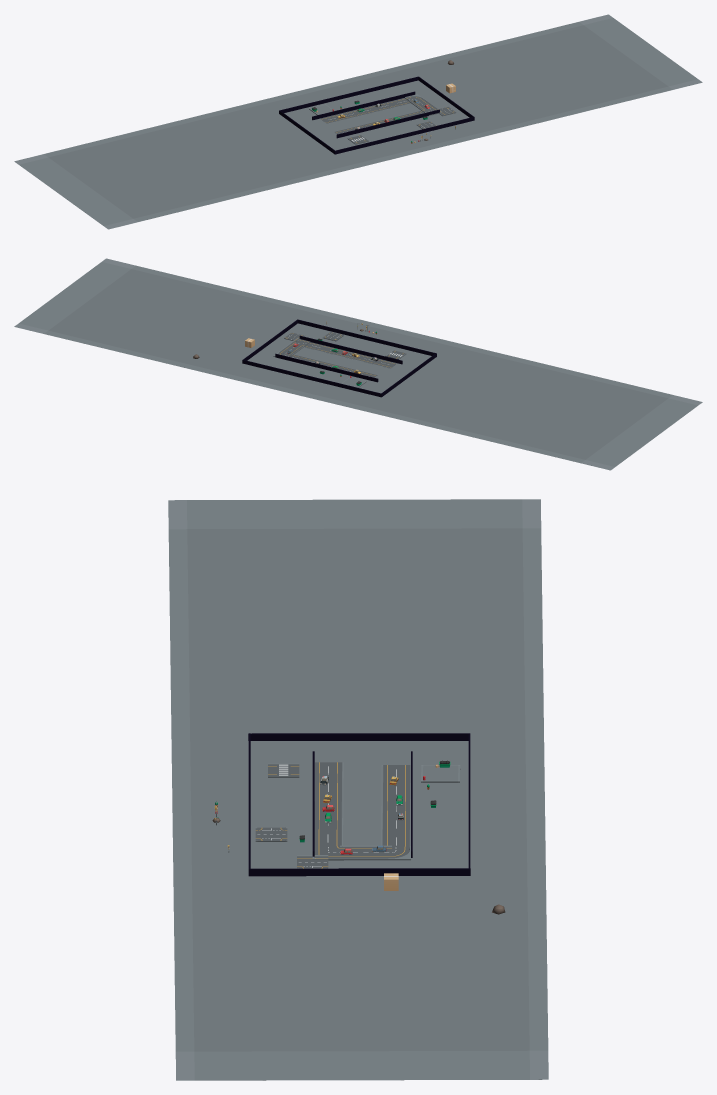
File: world3_small.gltf
3 views of the same model, one above another, from view 1: azimuth 30°, elevation 25°; view 2: azimuth 150°, elevation 25°; view 3: azimuth 270°, elevation 25° (orthographic). The views are drawn at different scales.
Parts seen in each view (by area): view 1: build_ground.022, building_world_wall3, road_straight, building_world_wall, building_world_wall.002, building_world_wall.001; view 2: build_ground.022, building_world_wall, building_world_wall3, road_straight.001, building_world_wall.001, building_world_wall.002; view 3: build_ground.022, road_straight, road_straight.001, building_world_wall2, building_world_wall4.
Part boxes in pixels (bbox=[...]): build_ground.022: bbox=[14, 14, 702, 229]; building_world_wall3: bbox=[334, 117, 473, 154]; road_straight: bbox=[320, 98, 411, 123]; building_world_wall: bbox=[279, 76, 418, 112]; building_world_wall.002: bbox=[336, 109, 439, 138]; building_world_wall.001: bbox=[312, 91, 415, 120]; build_ground.022: bbox=[14, 258, 702, 470]; building_world_wall: bbox=[243, 360, 381, 397]; building_world_wall3: bbox=[298, 319, 436, 356]; road_straight.001: bbox=[304, 342, 397, 368]; building_world_wall.001: bbox=[275, 353, 378, 382]; building_world_wall.002: bbox=[299, 335, 402, 364]; build_ground.022: bbox=[168, 499, 548, 1080]; road_straight: bbox=[381, 765, 410, 846]; road_straight.001: bbox=[314, 762, 343, 846]; building_world_wall2: bbox=[248, 868, 470, 876]; building_world_wall4: bbox=[248, 733, 470, 740].
Size of the model in its own units: 1413 by 24.17 by 391.
Materials: 32 (29 with a texture image).
